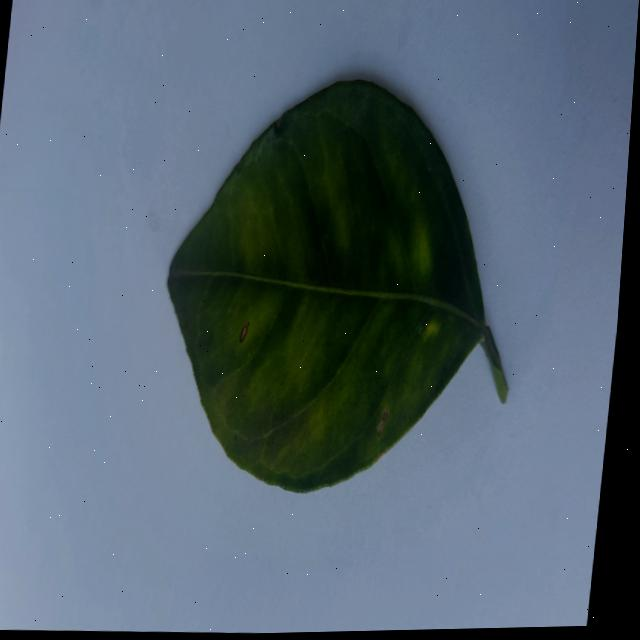greening: (167, 80, 506, 491)
